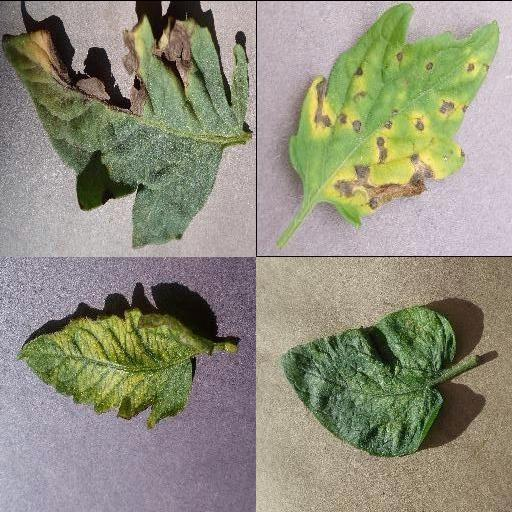Early Blight: (4, 17, 250, 246)
Mosaic Virus: (16, 308, 210, 432)
Septoria: (285, 4, 501, 224)
Spider Mites: (280, 304, 456, 454)
